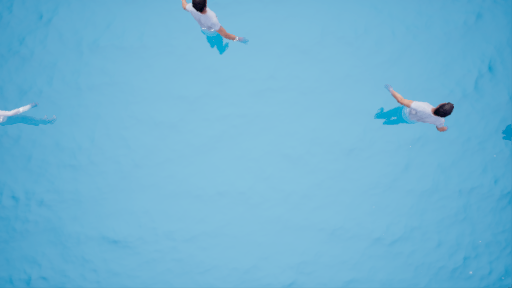person: (370, 77, 460, 138), (159, 1, 254, 55), (1, 100, 72, 132)
